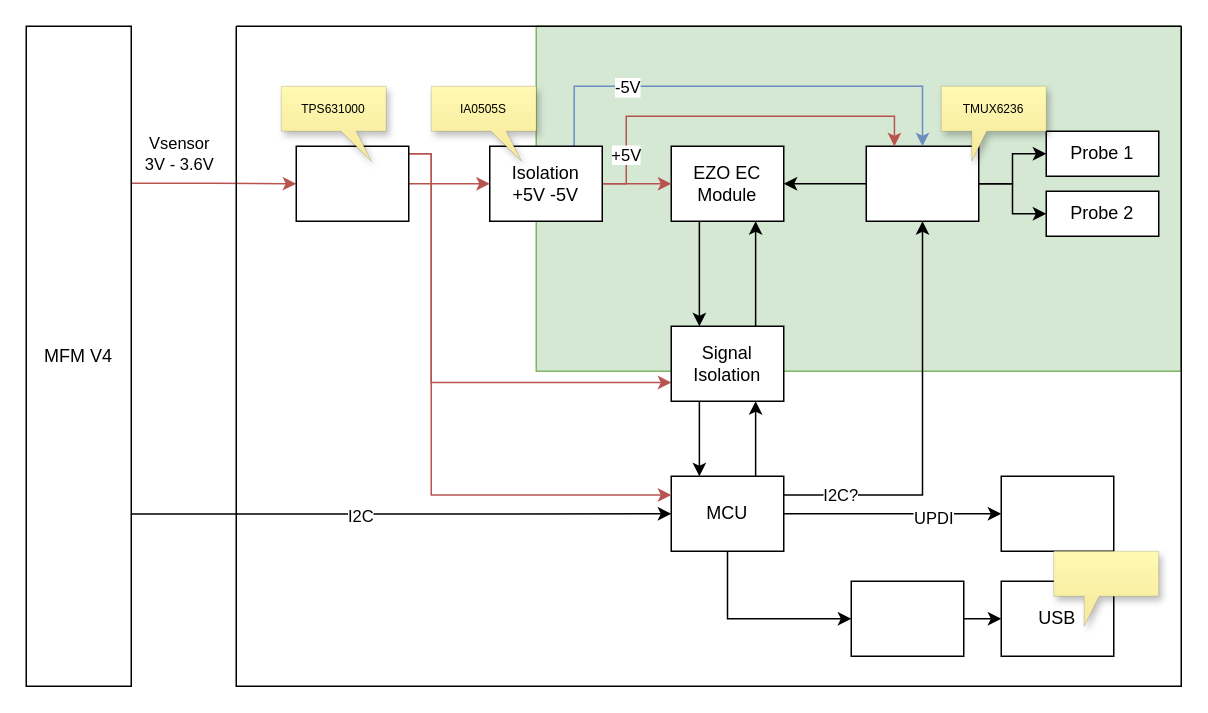
The diagram is 1208 pixels wide and 713 high, and some of its shapes have lost their labels. The centre of each missing label's shape, as x and y in pixels:
"2x 2:1 mux" goes at (x=922, y=183).
"Boost 5V" goes at (x=352, y=183).
"DEBUG Port" goes at (x=1057, y=513).
"For configuration / calibration without Core module" goes at (x=1107, y=590).
"USB-UART" goes at (x=907, y=618).
